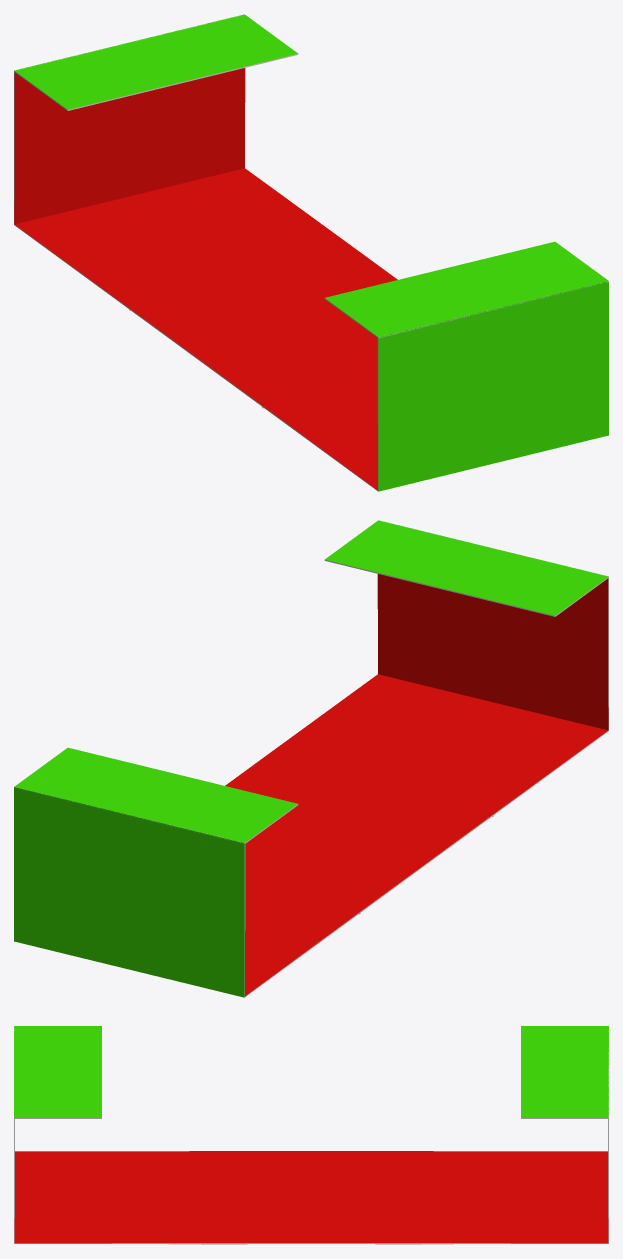
3 views of the same model, one above another, from view 1: azimuth 30°, elevation 25°; view 2: azimuth 150°, elevation 25°; view 3: azimuth 270°, elevation 25° (orthographic). The views are drawn at different scales.
Visible parts, largest first — view 1: Plane; view 2: Plane; view 3: Plane.
Boxes of the visible parts, x1,y1,x2,y2 form: Plane: (14, 14, 608, 491); Plane: (14, 520, 608, 997); Plane: (14, 1026, 608, 1244).
Size of the model in its own units: 200 by 129 by 547.
